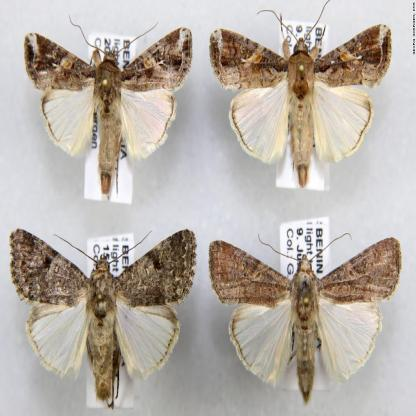armyworm: (12, 218, 200, 416), (211, 230, 404, 404), (208, 8, 389, 186), (22, 20, 194, 198)
